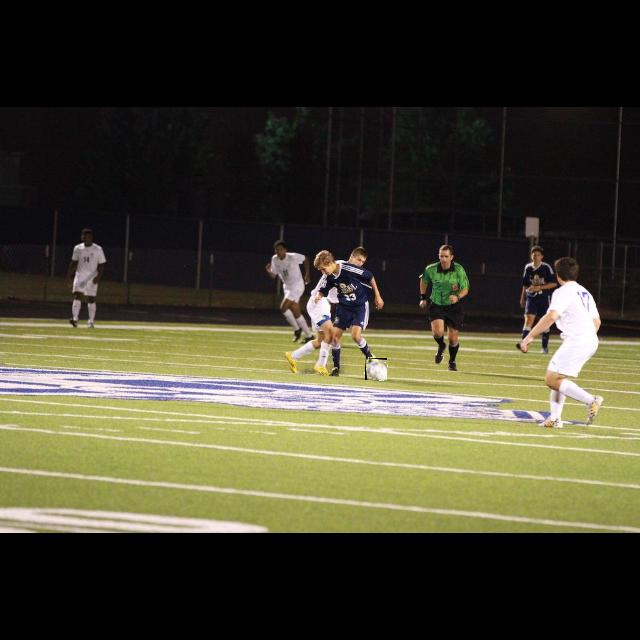Football: (365, 358, 387, 380)
